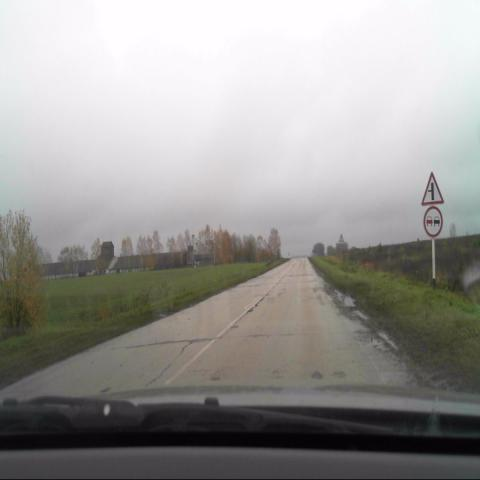2_3_3: (420, 170, 445, 204)
3_20: (423, 205, 443, 237)
